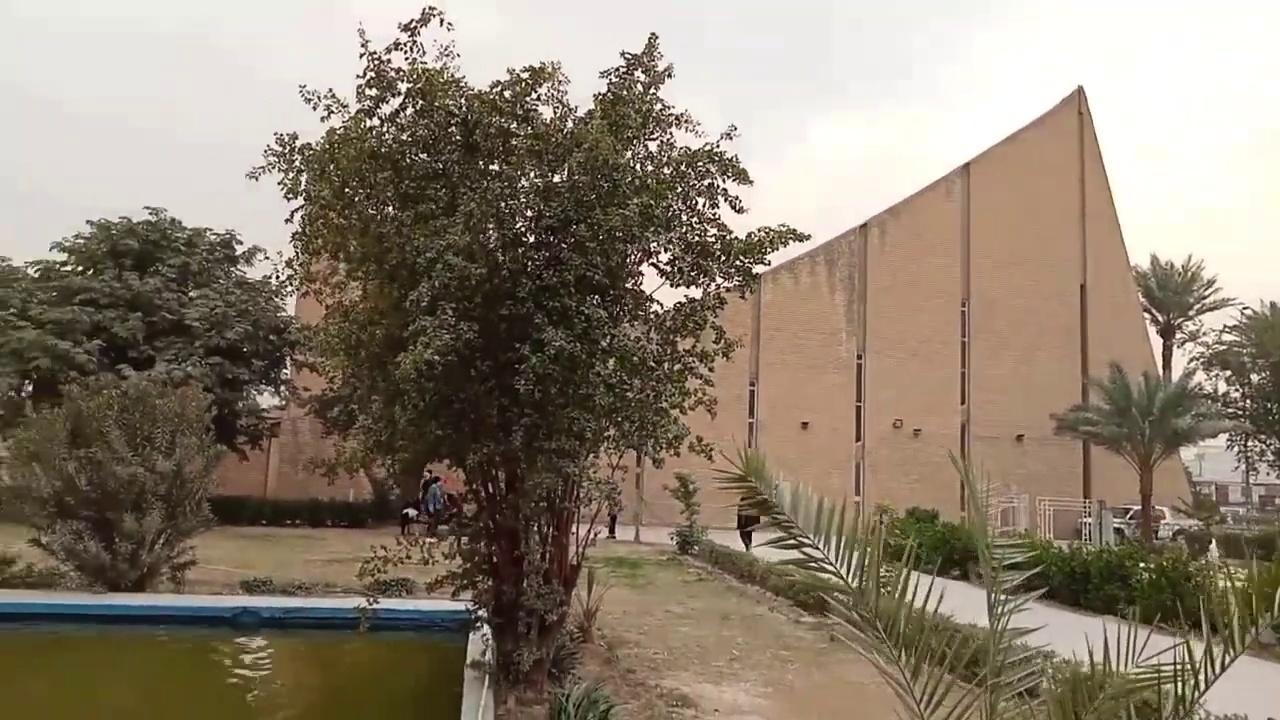car: (1075, 502, 1202, 544)
fountain: (0, 591, 492, 718)
person: (423, 475, 445, 538), (736, 495, 759, 552), (418, 469, 434, 519), (399, 497, 419, 535), (606, 503, 618, 539)
tree: (242, 4, 811, 715), (708, 442, 1270, 718), (0, 204, 314, 478), (8, 366, 227, 593), (1050, 358, 1229, 545), (1195, 297, 1279, 508), (1128, 250, 1239, 384), (710, 445, 775, 552), (662, 468, 704, 554)
